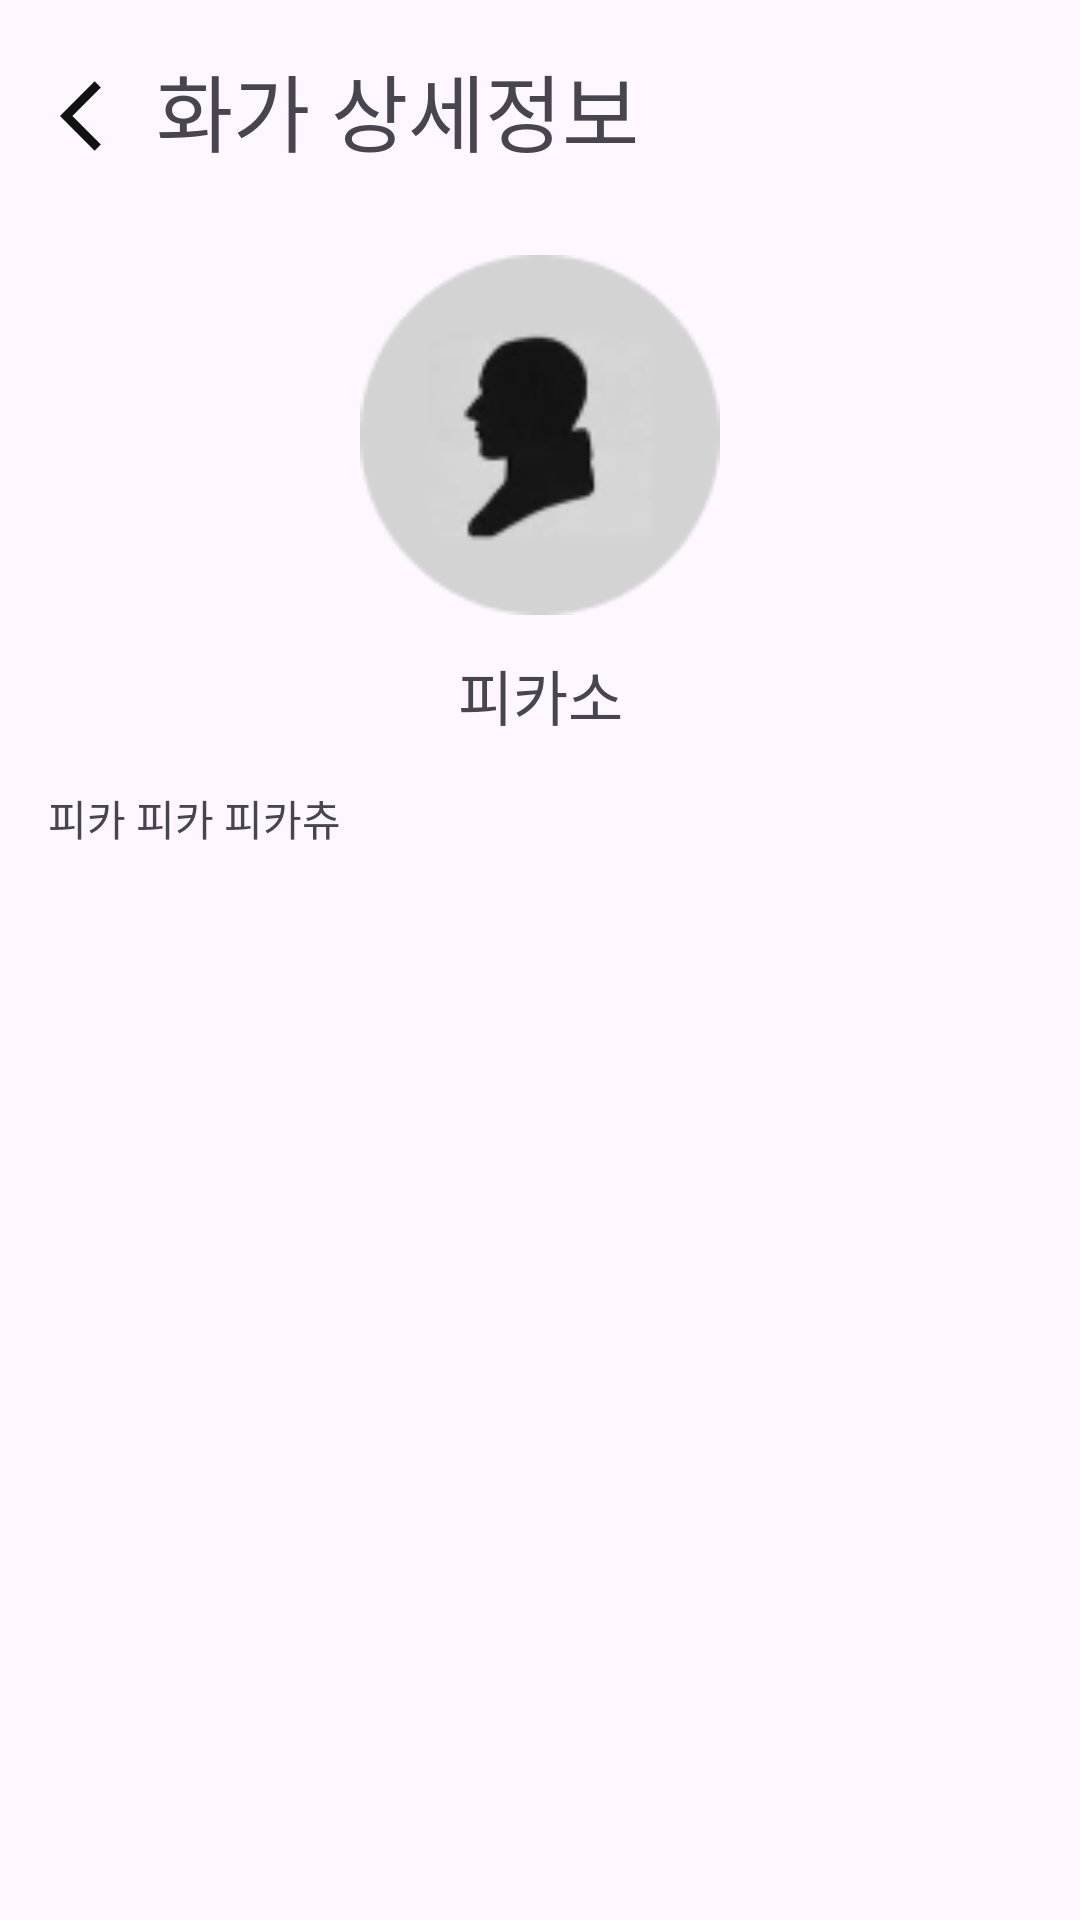

Screen size 1080w x 1920h. Icon name, then its center in pixels as (x=x, y=y):
arrow back: (x=80, y=116)
basic artist profile: (x=540, y=435)
